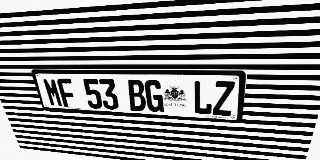3: (98, 79, 119, 110)
5: (82, 79, 104, 109)
B: (126, 79, 147, 111)
F: (56, 78, 78, 108)
G: (144, 80, 164, 112)
L: (193, 81, 213, 115)
M: (42, 78, 64, 107)
Z: (212, 81, 235, 116)
